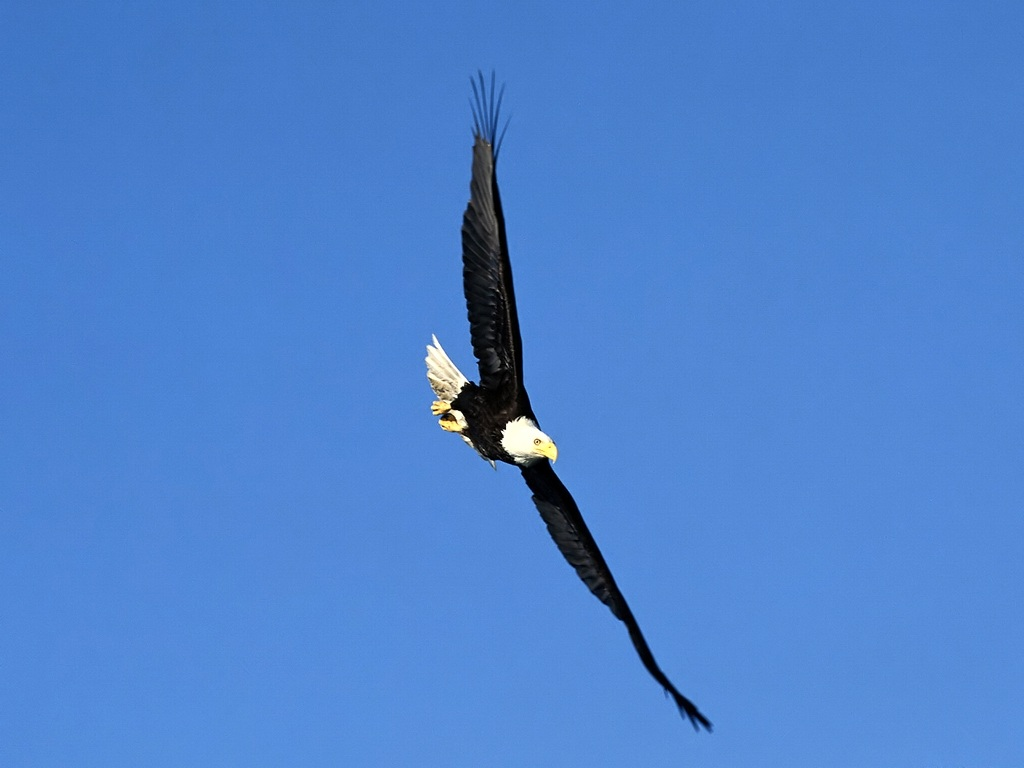bird: (418, 63, 719, 742)
